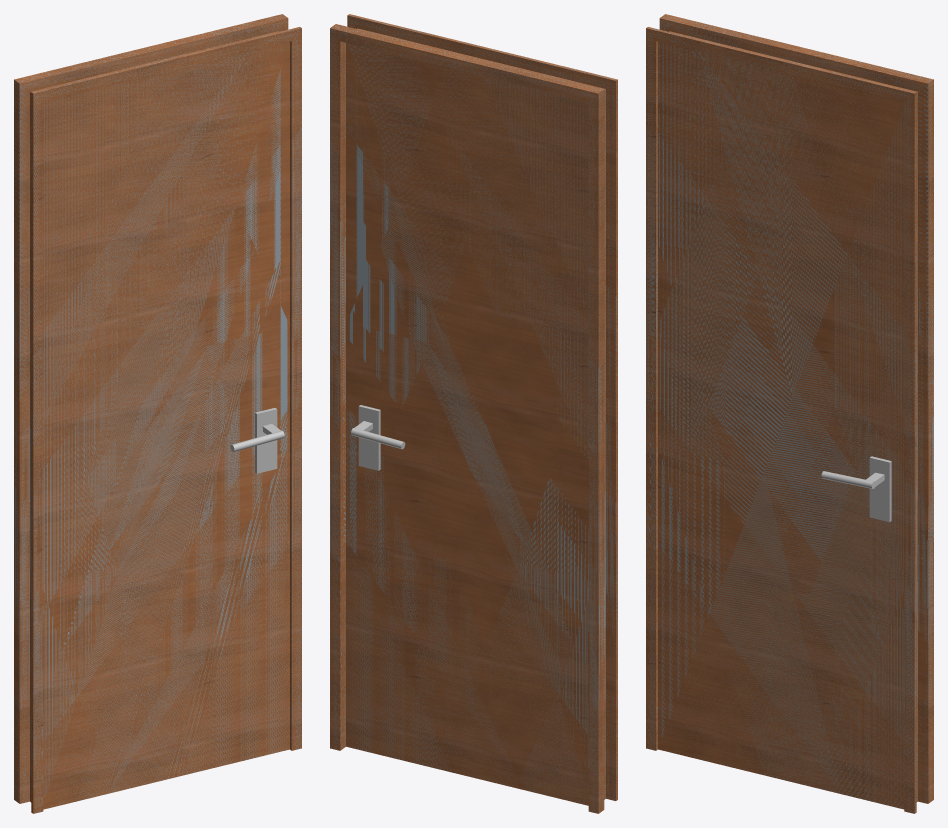
The model's file is door.dae.
The picture shows the model from 3 angles, left to right: view 1: azimuth 30°, elevation 25°; view 2: azimuth 150°, elevation 25°; view 3: azimuth 330°, elevation 25°; orthographic projection.
Visible parts, largest first — view 1: SketchUp, group_0 (×2); view 2: SketchUp, group_1 (×2); view 3: SketchUp, group_0 (×2).
Part boxes in pixels (box(x1,y1,x2,y2)): SketchUp: box(14, 14, 301, 813); group_0 (×2): box(230, 408, 284, 473); SketchUp: box(330, 14, 617, 813); group_1 (×2): box(351, 405, 405, 470); SketchUp: box(646, 14, 933, 813); group_0 (×2): box(821, 456, 891, 522).
Size of the model in its own units: 31.5 by 8.35 by 80.71.
